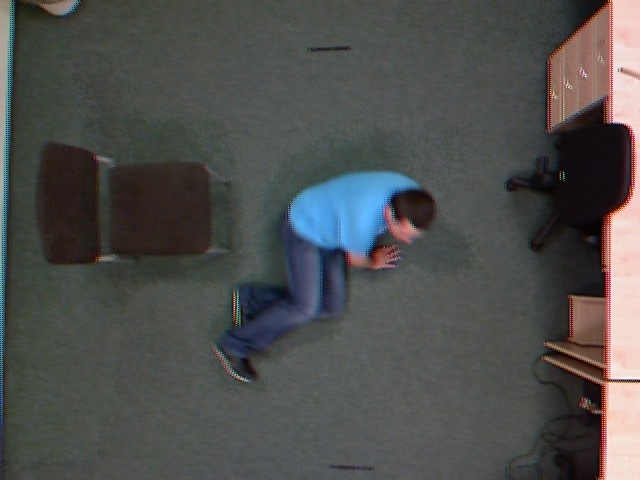fall: (201, 155, 452, 377)
